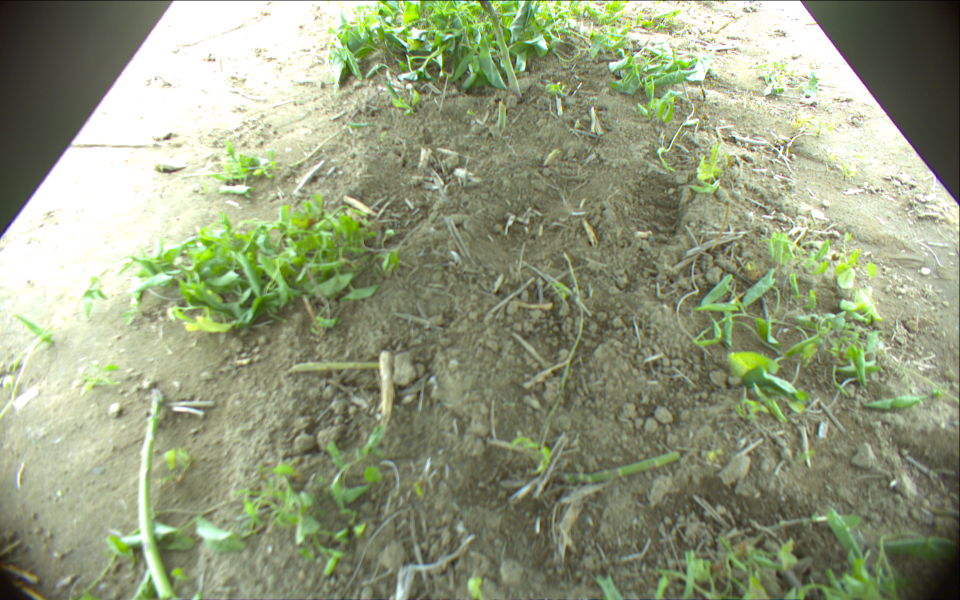aspa: (136, 389, 179, 600), (552, 451, 684, 486), (480, 1, 522, 97)
